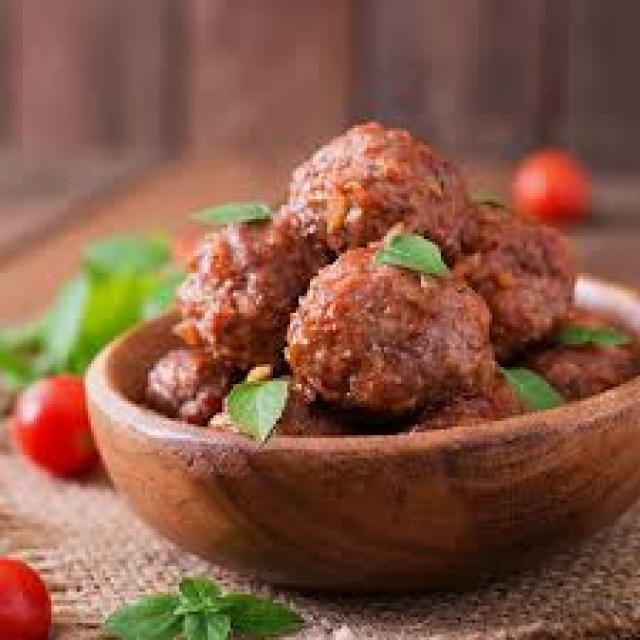meatball: (282, 238, 496, 413), (278, 119, 476, 257), (156, 222, 330, 366)
